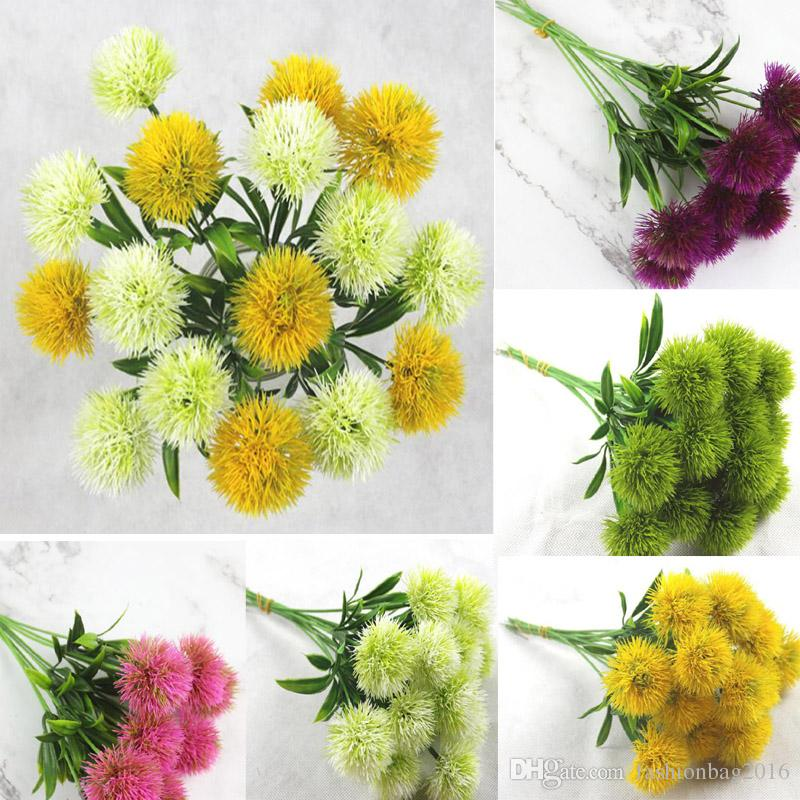dandelion: (647, 584, 791, 766), (240, 264, 334, 361), (339, 93, 439, 182), (385, 339, 473, 434), (125, 130, 218, 211), (224, 413, 292, 503), (31, 270, 95, 355), (622, 645, 664, 712)
